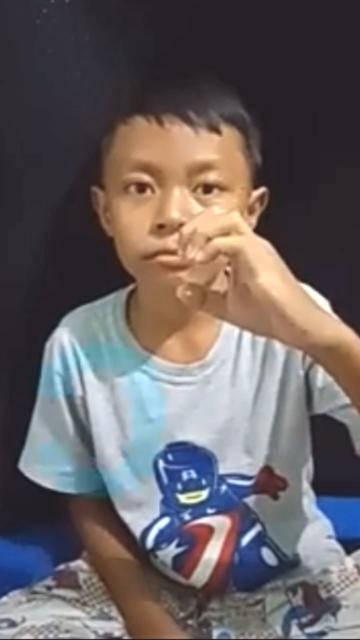C: (173, 205, 319, 341)
